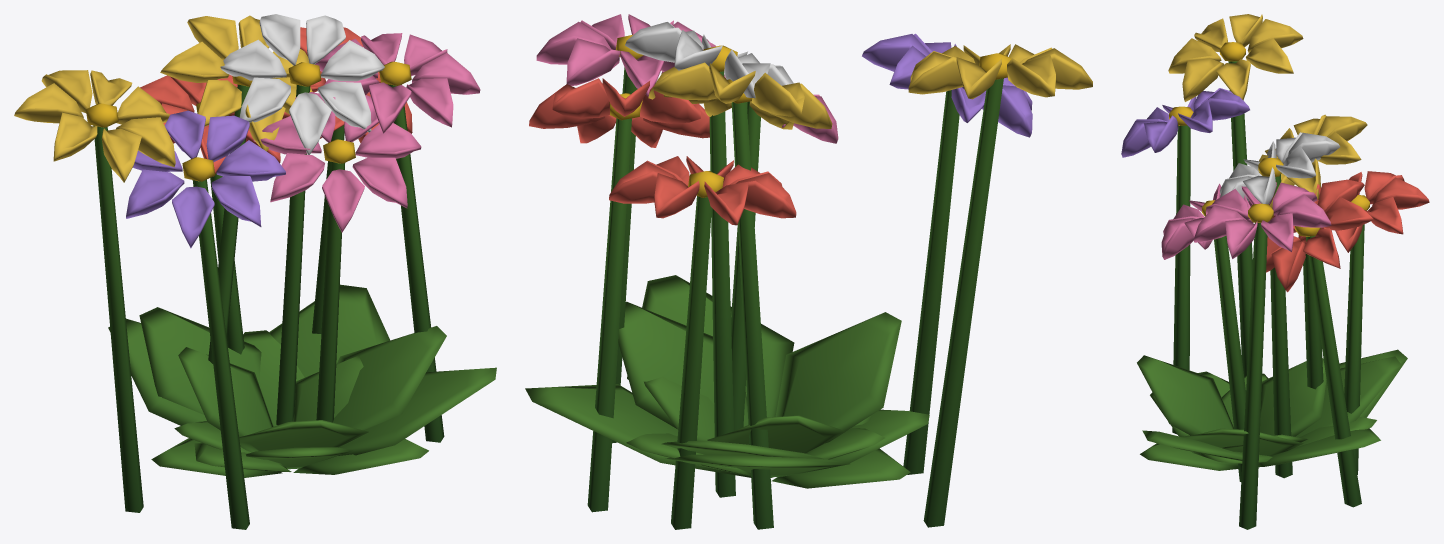
The model's file is flowers_mixed.glb.
3 renders of one model, left to right at view 1: azimuth 30°, elevation 25°; view 2: azimuth 150°, elevation 25°; view 3: azimuth 270°, elevation 25°, orthographic. The views are drawn at different scales.
Visible parts, largest first — view 1: flowers_mixed; view 2: flowers_mixed; view 3: flowers_mixed.
Boxes of the visible parts, <box> form: flowers_mixed: <box>14,14,496,529</box>; flowers_mixed: <box>525,14,1092,529</box>; flowers_mixed: <box>1121,14,1429,529</box>.
Size of the model in its own units: 0.5285 by 0.4968 by 0.3845.
